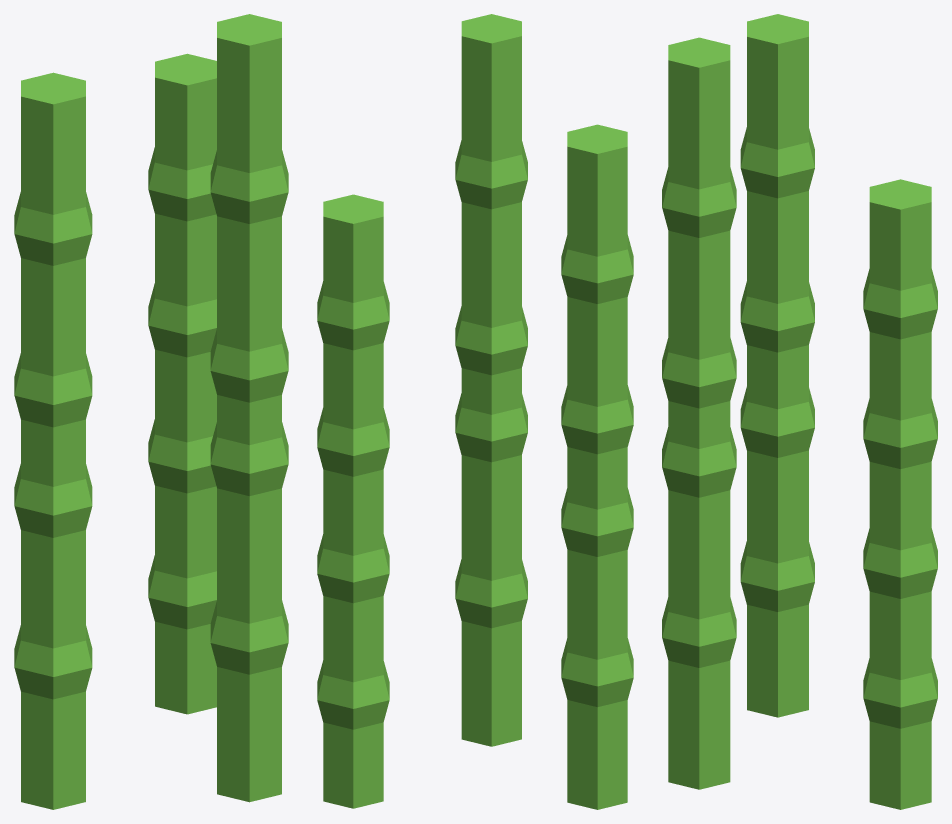
Rendered from bamboo.glb.
3 renders of one model, left to right at view 1: azimuth 30°, elevation 25°; view 2: azimuth 150°, elevation 25°; view 3: azimuth 270°, elevation 25°, orthographic. The views are drawn at different scales.
Visible parts, largest first — view 1: crops_bambooStageB; view 2: crops_bambooStageB; view 3: crops_bambooStageB.
Boxes of the visible parts, box(x1,y1,x2,y2) form: crops_bambooStageB: box(14, 14, 288, 809); crops_bambooStageB: box(317, 14, 633, 809); crops_bambooStageB: box(662, 14, 937, 809).
Bounding box in the file's own units: 1.36 × 3.56 × 1.23.
